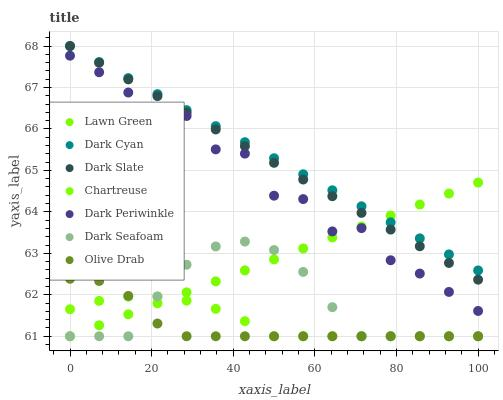axis: (62, 346, 502, 358), (42, 30, 57, 350)
legend: (48, 101, 184, 279)
point: (326, 301, 338, 312), (94, 57, 104, 67), (416, 199, 426, 209), (386, 331, 396, 341), (412, 269, 424, 277), (153, 91, 163, 100), (474, 179, 483, 189), (299, 332, 309, 341), (269, 254, 278, 264), (446, 188, 454, 199), (124, 74, 133, 83), (358, 332, 367, 341), (329, 332, 338, 341), (212, 304, 221, 313), (153, 318, 162, 327), (183, 296, 193, 304), (388, 226, 396, 236), (66, 41, 74, 50), (211, 144, 219, 153), (299, 175, 308, 183), (445, 288, 453, 297), (270, 333, 279, 341), (124, 293, 133, 301), (329, 227, 338, 235), (96, 321, 104, 330), (272, 244, 280, 252), (243, 266, 251, 274), (242, 317, 250, 325), (242, 331, 250, 339), (183, 332, 191, 340), (96, 68, 104, 76), (271, 158, 278, 167), (214, 277, 221, 286), (212, 125, 219, 133), (242, 149, 249, 157), (330, 192, 337, 200), (242, 238, 250, 245), (301, 269, 308, 277), (476, 306, 483, 314), (476, 334, 484, 341), (418, 332, 426, 339), (213, 334, 221, 341), (125, 332, 133, 339), (66, 306, 74, 313), (359, 224, 366, 232), (212, 242, 219, 249), (389, 256, 396, 263), (67, 331, 74, 338), (125, 89, 132, 96), (301, 197, 309, 203), (270, 192, 278, 198), (447, 333, 453, 340), (96, 333, 103, 339), (96, 297, 102, 304), (155, 293, 161, 299), (126, 311, 131, 317), (302, 246, 307, 252)
